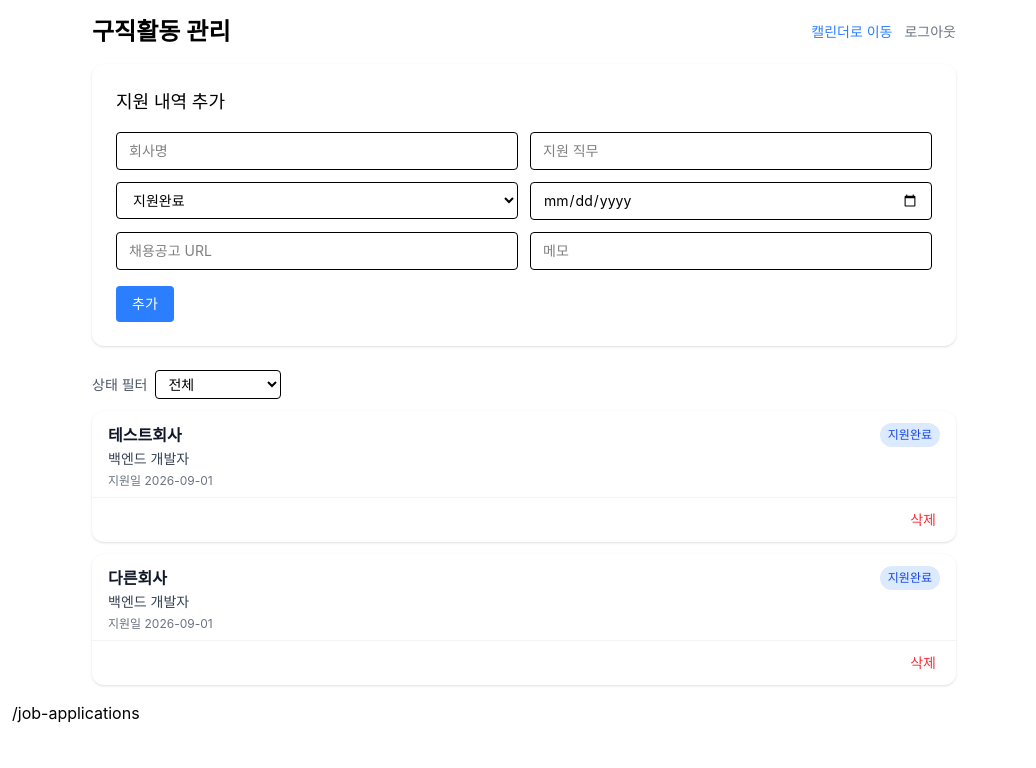
Scenario: JobApplicationsPage › 작은 화면(카드 목록) › clickCard_otherCardWithUnsavedInput_asksBeforeReplacing
The width and height of the screenshot is (1036, 768).
Step 1. Click the button "테스트회사 지원완료 백엔드 개발자 지원일 2026-09-01" → (145, 435), box [92,411,956,497]
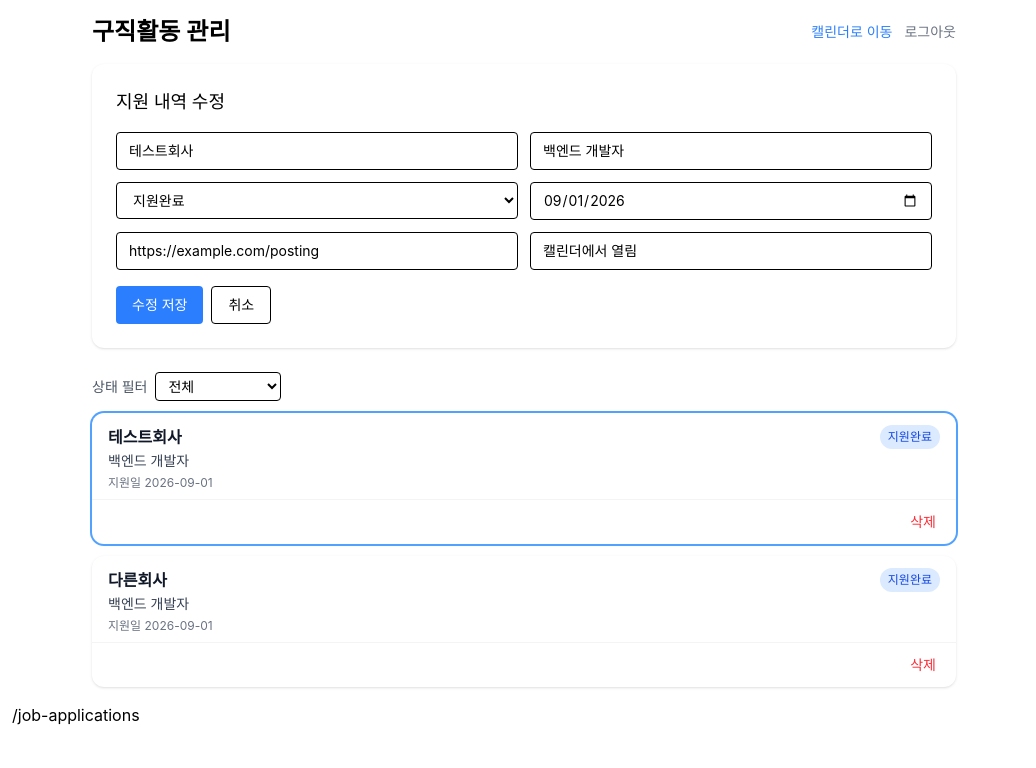
Check: the 1st field with placeholder "회사명" holds "테스트회사"
Step 2. Type " 수정중" into the 1st field with placeholder "회사명" → (317, 151), box [116,132,518,170]
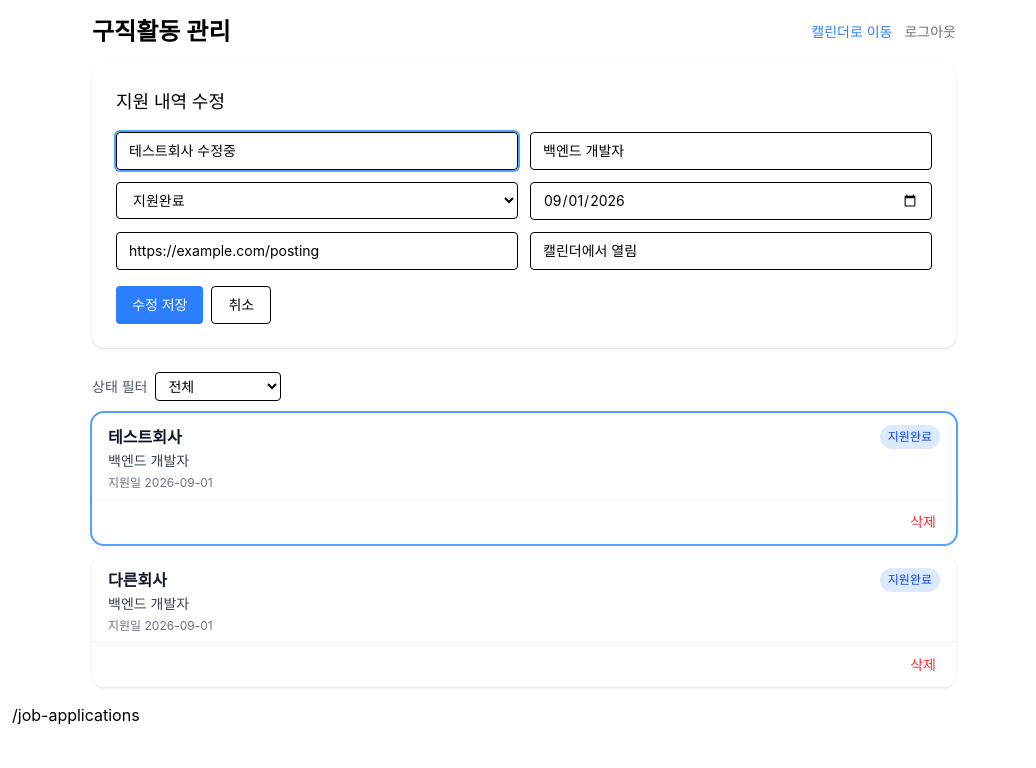
Step 3. Click the button "다른회사 지원완료 백엔드 개발자 지원일 2026-09-01" → (137, 580), box [92,556,956,642]
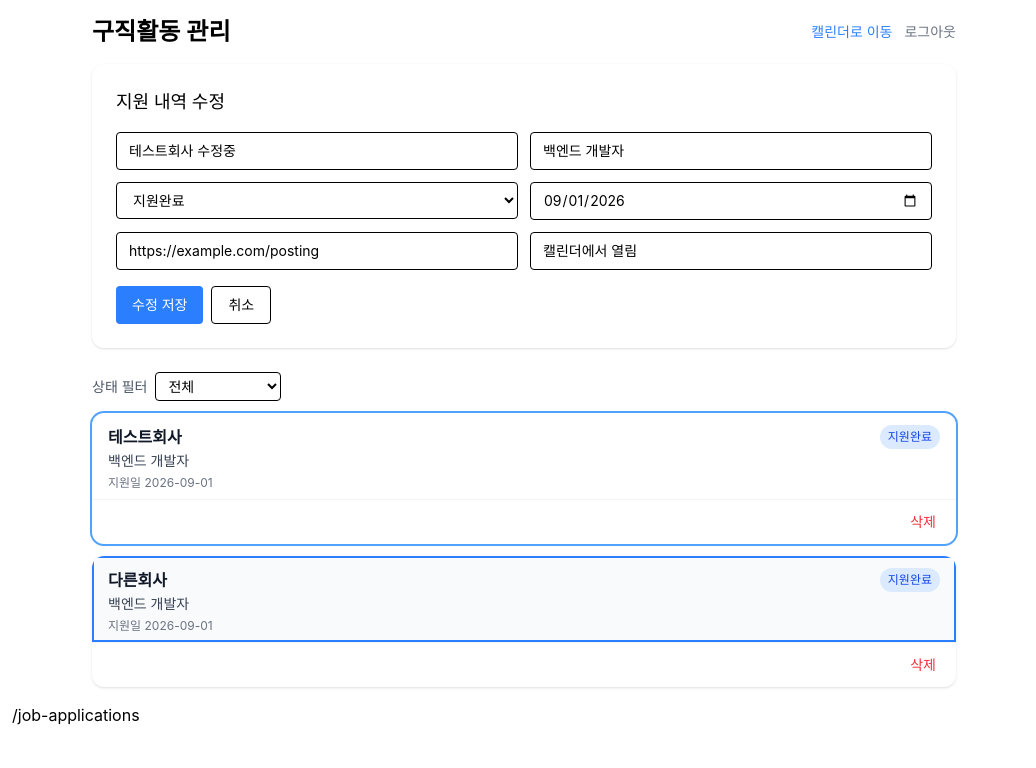
Check: the 1st field with placeholder "회사명" holds "테스트회사 수정중", box [116,132,518,170]
Step 4. Click the button "다른회사 지원완료 백엔드 개발자 지원일 2026-09-01" → (137, 580), box [92,556,956,642]
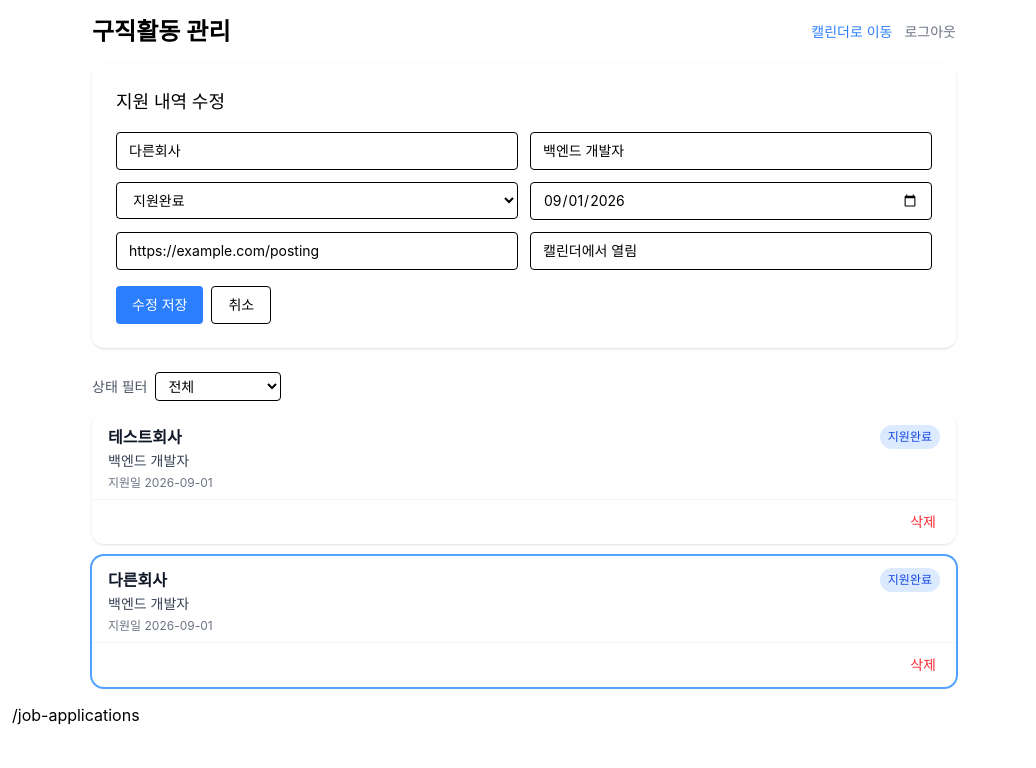
Check: the 1st field with placeholder "회사명" holds "다른회사", box [116,132,518,170]
